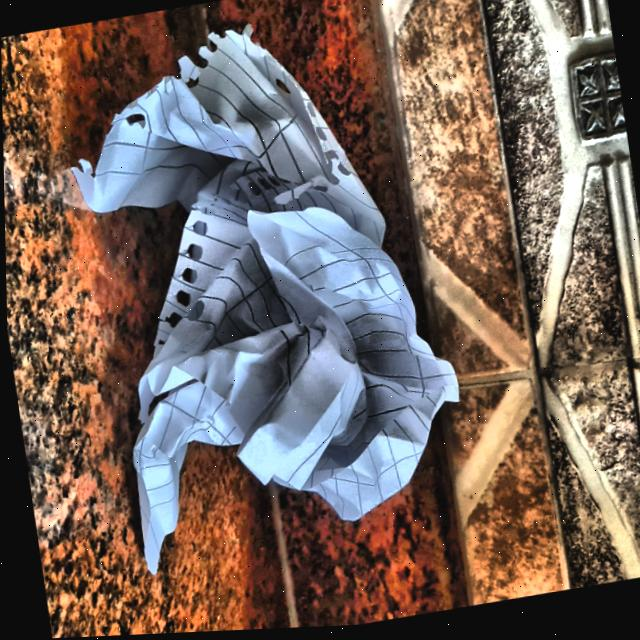paper: (55, 0, 475, 572)
